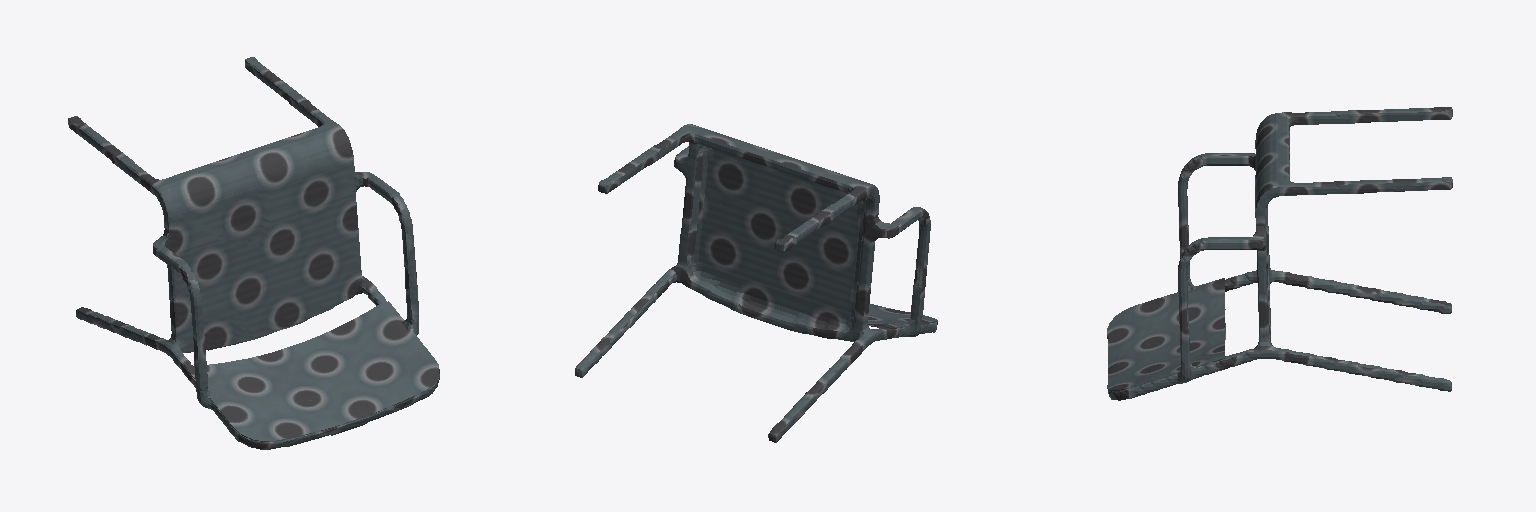
3 renders of one model, left to right at view 1: azimuth 30°, elevation 25°; view 2: azimuth 150°, elevation 25°; view 3: azimuth 270°, elevation 25°, orthographic.
Size of the model in its own units: 0.5786 by 0.5571 by 0.7486.
1 materials, 1 textured.